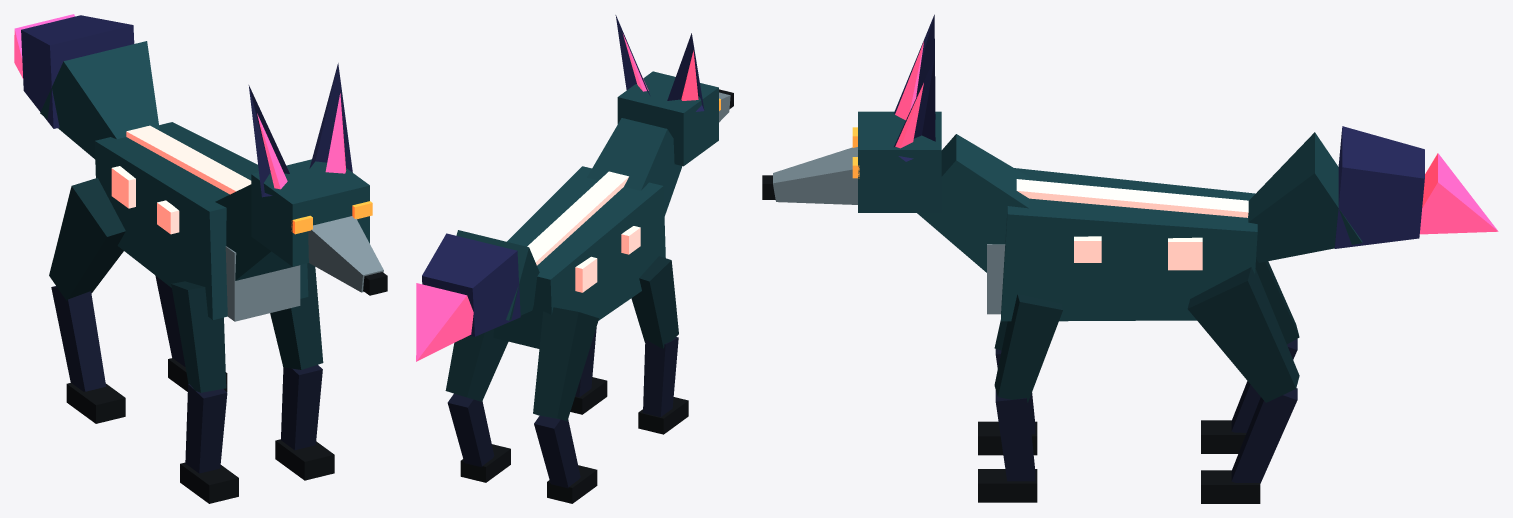
Rendered from scout.glb.
3 views of the same model, side by side, from view 1: azimuth 30°, elevation 25°; view 2: azimuth 150°, elevation 25°; view 3: azimuth 270°, elevation 25° (orthographic). The views are drawn at different scales.
Visible parts, largest first — view 1: FScoutHull, FScoutGlow; view 2: FScoutHull, FScoutGlow; view 3: FScoutHull, FScoutGlow.
Part boxes in pixels (x1,y1,x2,y2): FScoutHull: [21, 15, 387, 503]; FScoutGlow: [14, 14, 372, 234]; FScoutHull: [422, 15, 733, 503]; FScoutGlow: [416, 34, 720, 361]; FScoutHull: [762, 14, 1424, 503]; FScoutGlow: [852, 42, 1498, 270].
Size of the model in its own units: 0.4484 by 1.38 by 2.12.
